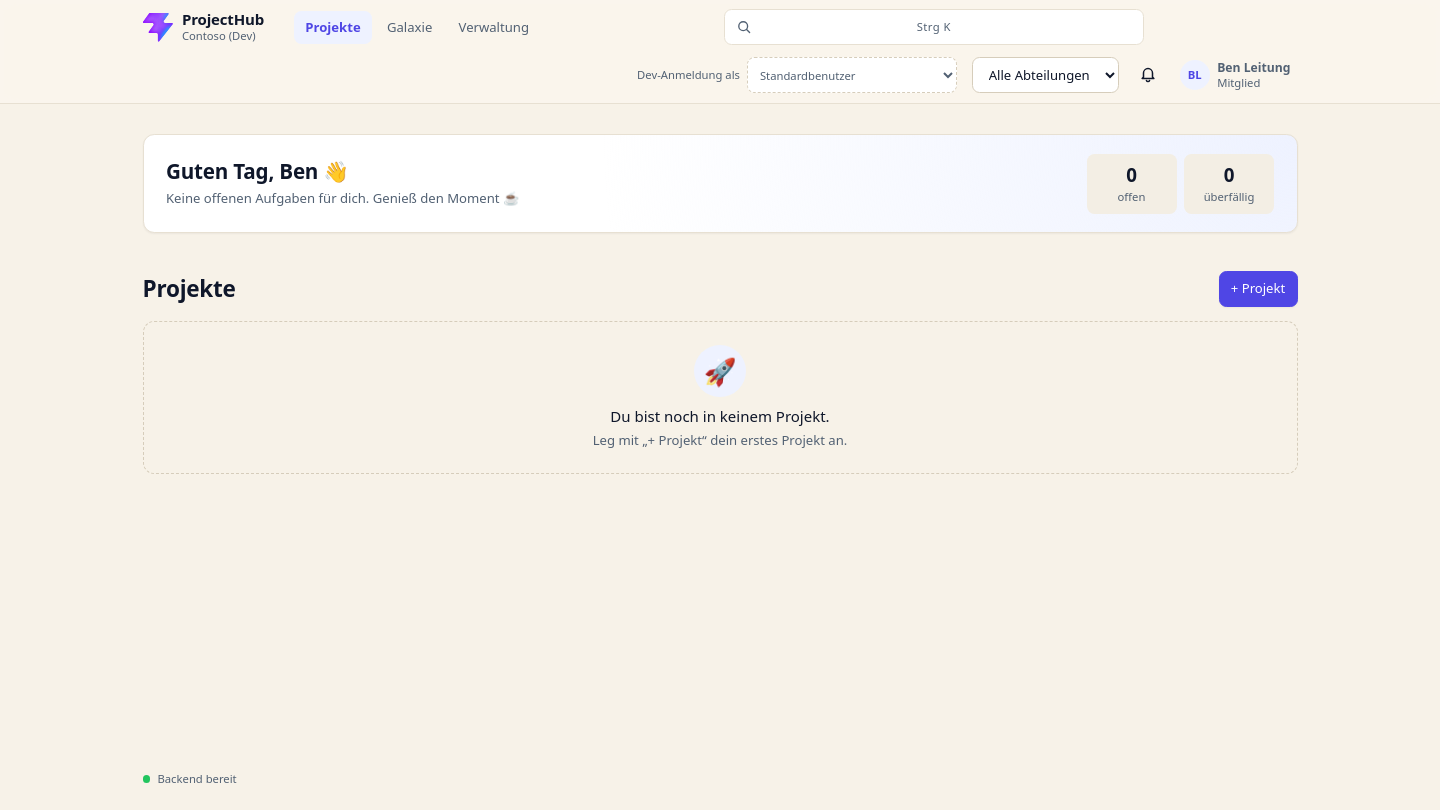
Test case: App › shows leads only the departments they manage, without creating new ones
Click the button "Verwaltung" at (494,27), box top-left (447, 11), bottom-right (540, 44)
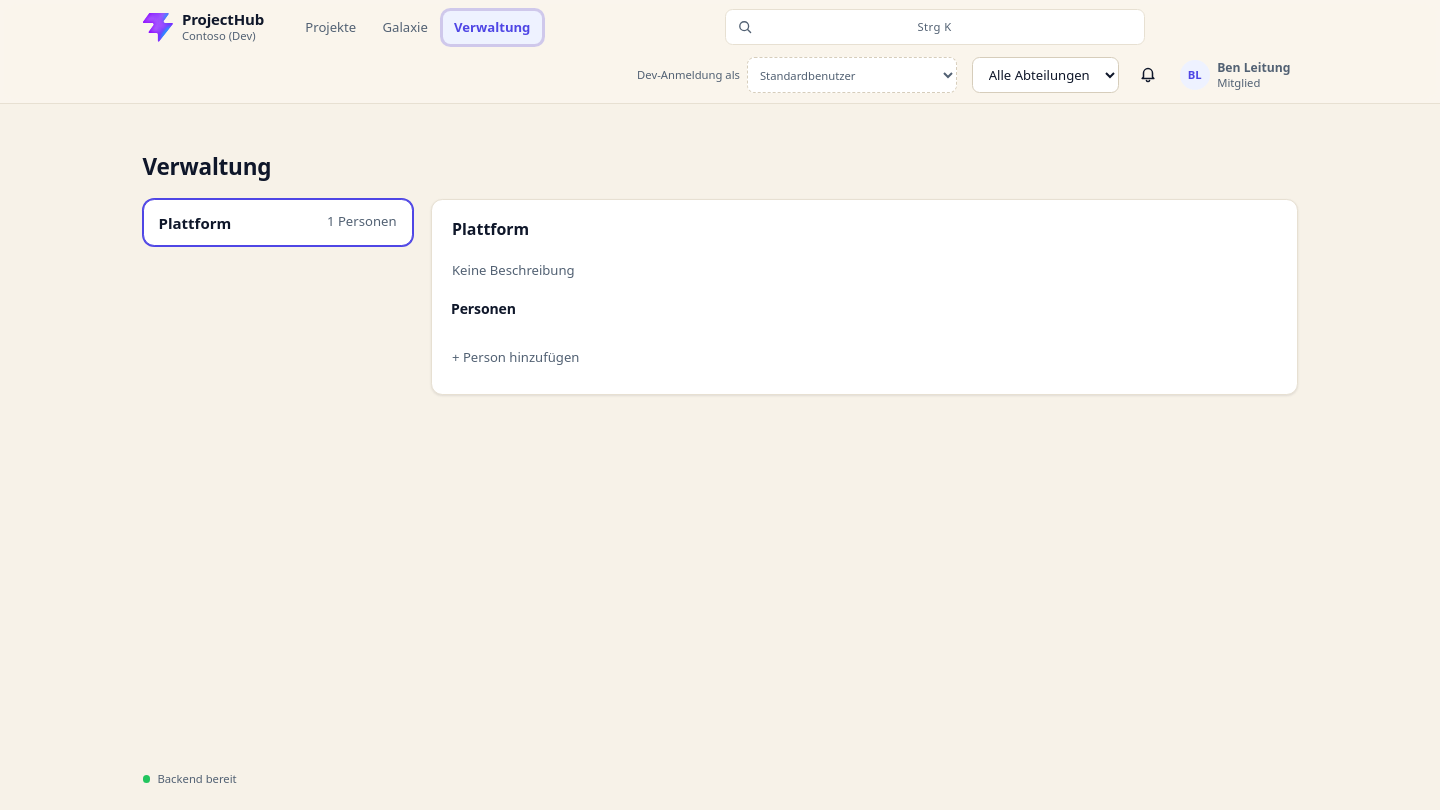
Check: the button "Plattform 1 Personen" is shown, box top-left (142, 199), bottom-right (412, 246)
